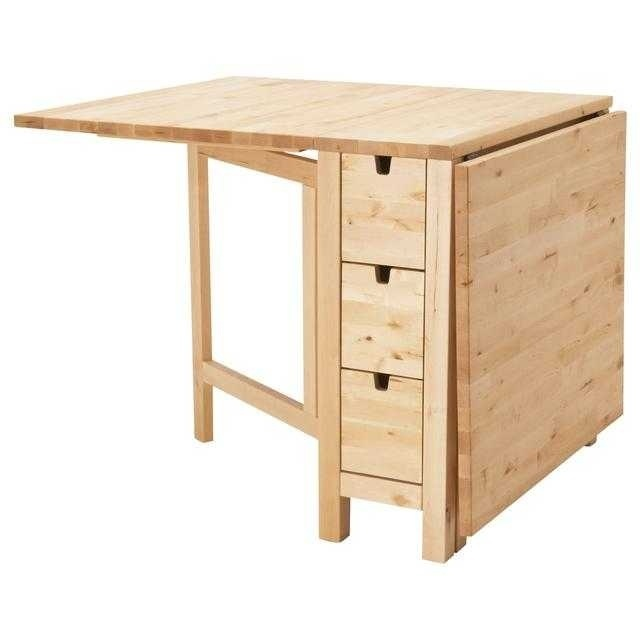obstacle: (15, 77, 624, 561)
